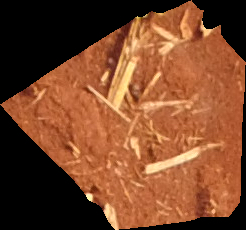soil: (2, 2, 245, 226)
